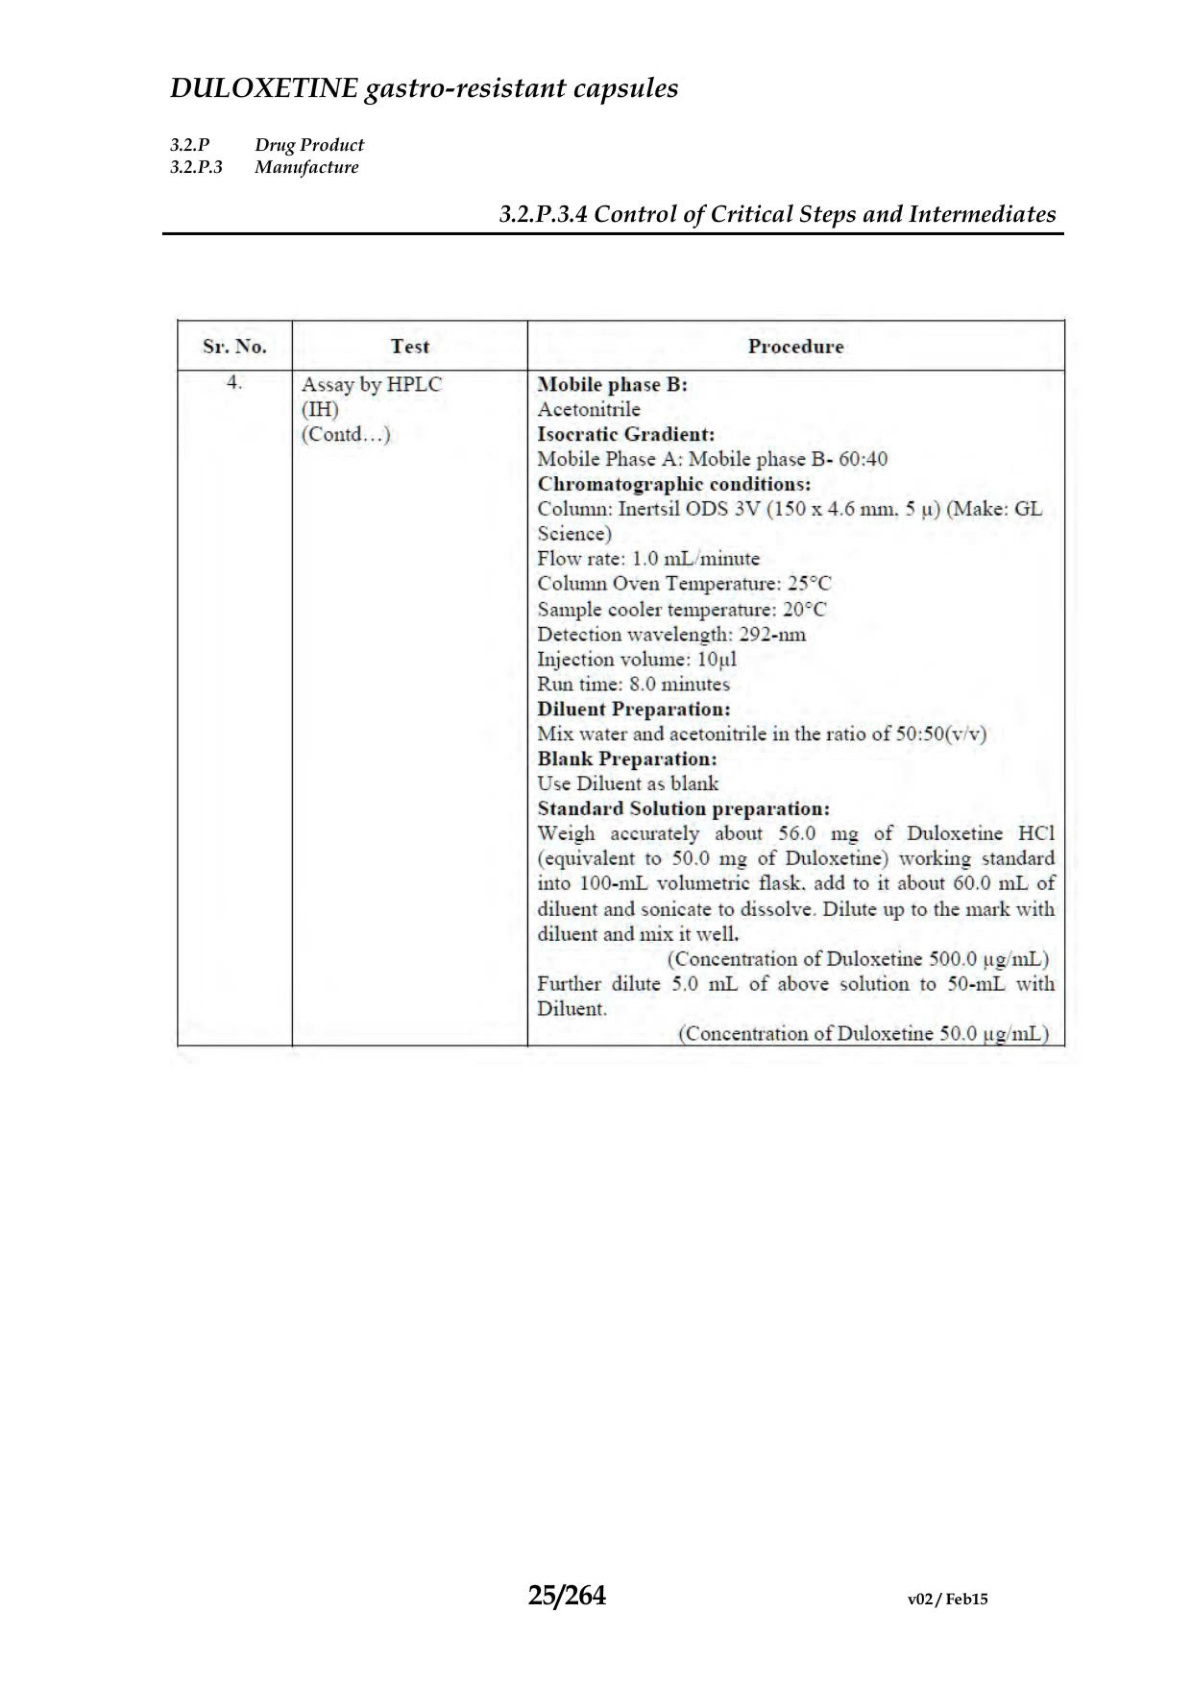full_lined: (175, 319, 1066, 1048)
